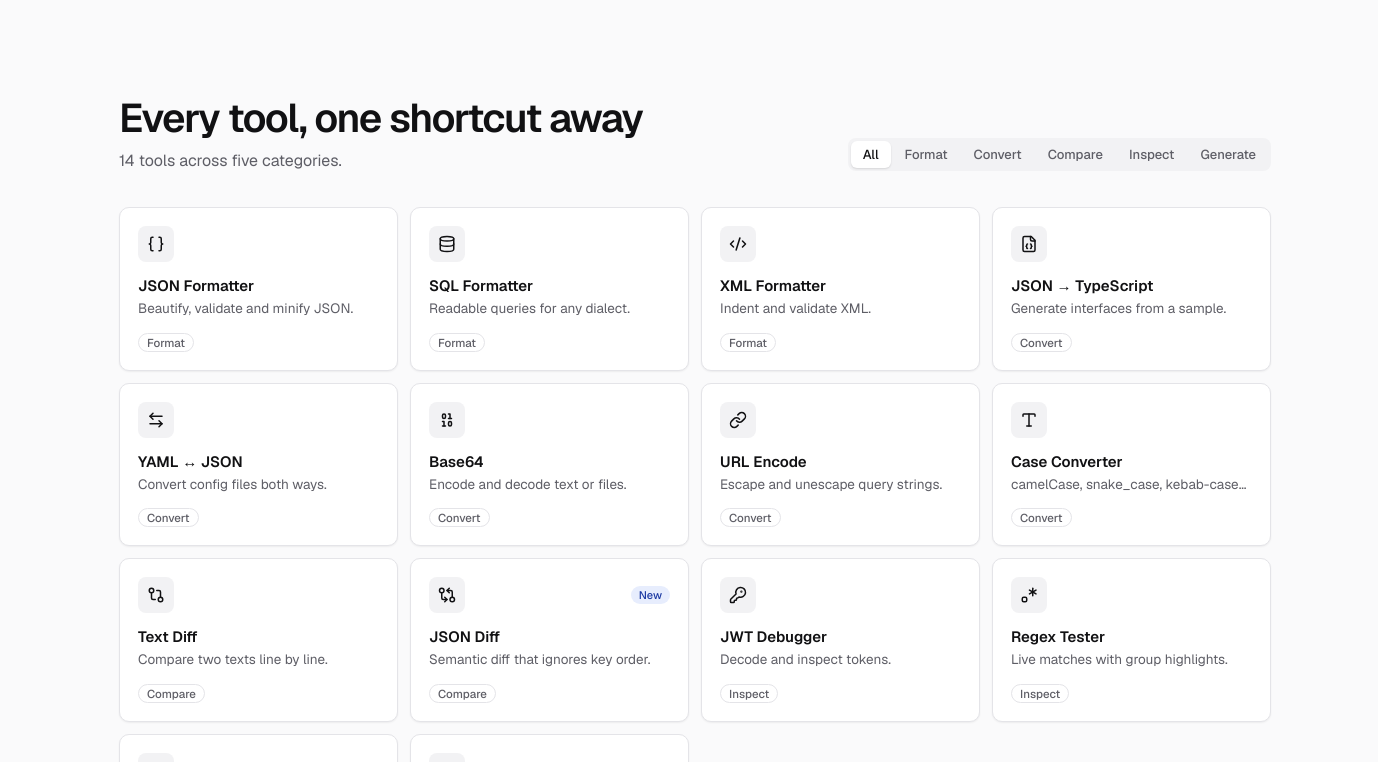
Test: ToolCatalog › filters by category
Click the radio button labelled "Compare" at (1075, 154), box [1036,141,1115,168]
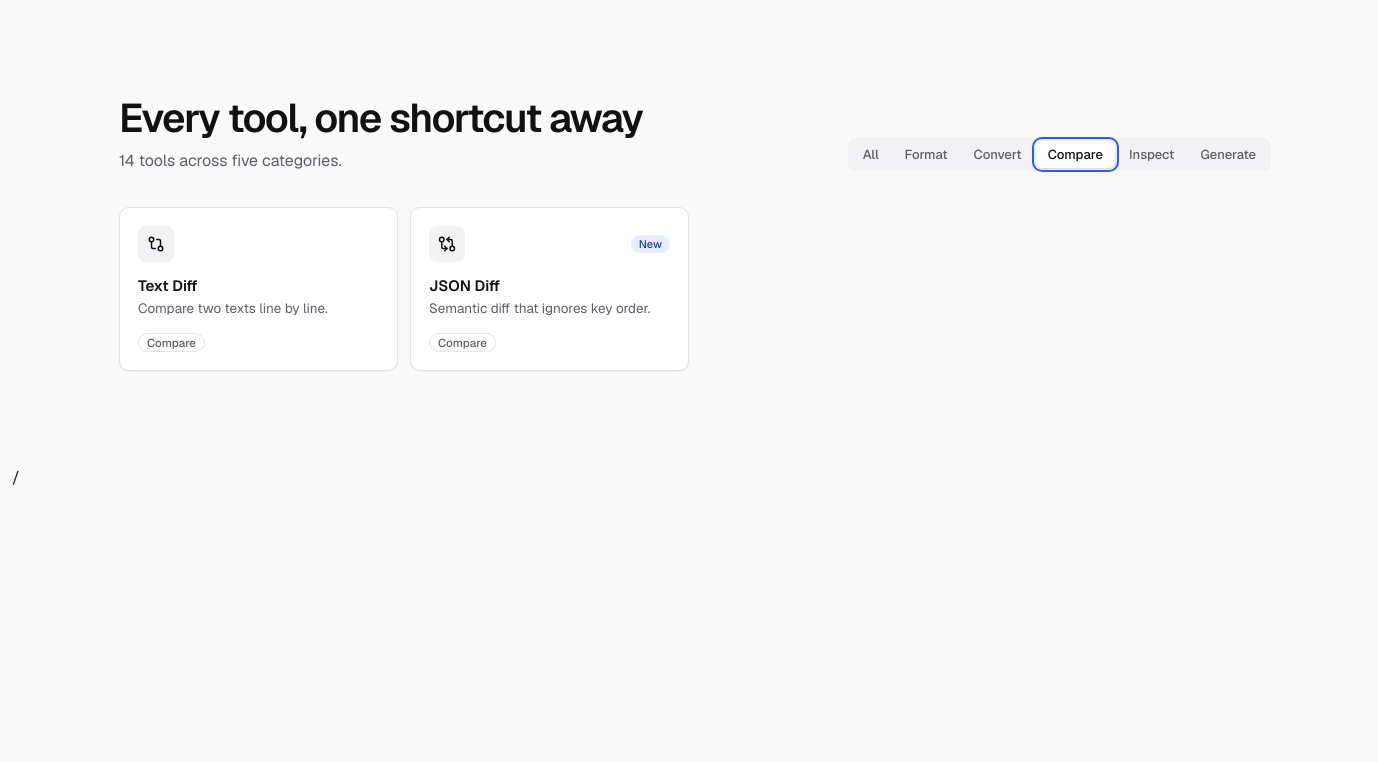
Click the radio button labelled "All" at (871, 154), box [851,141,891,168]
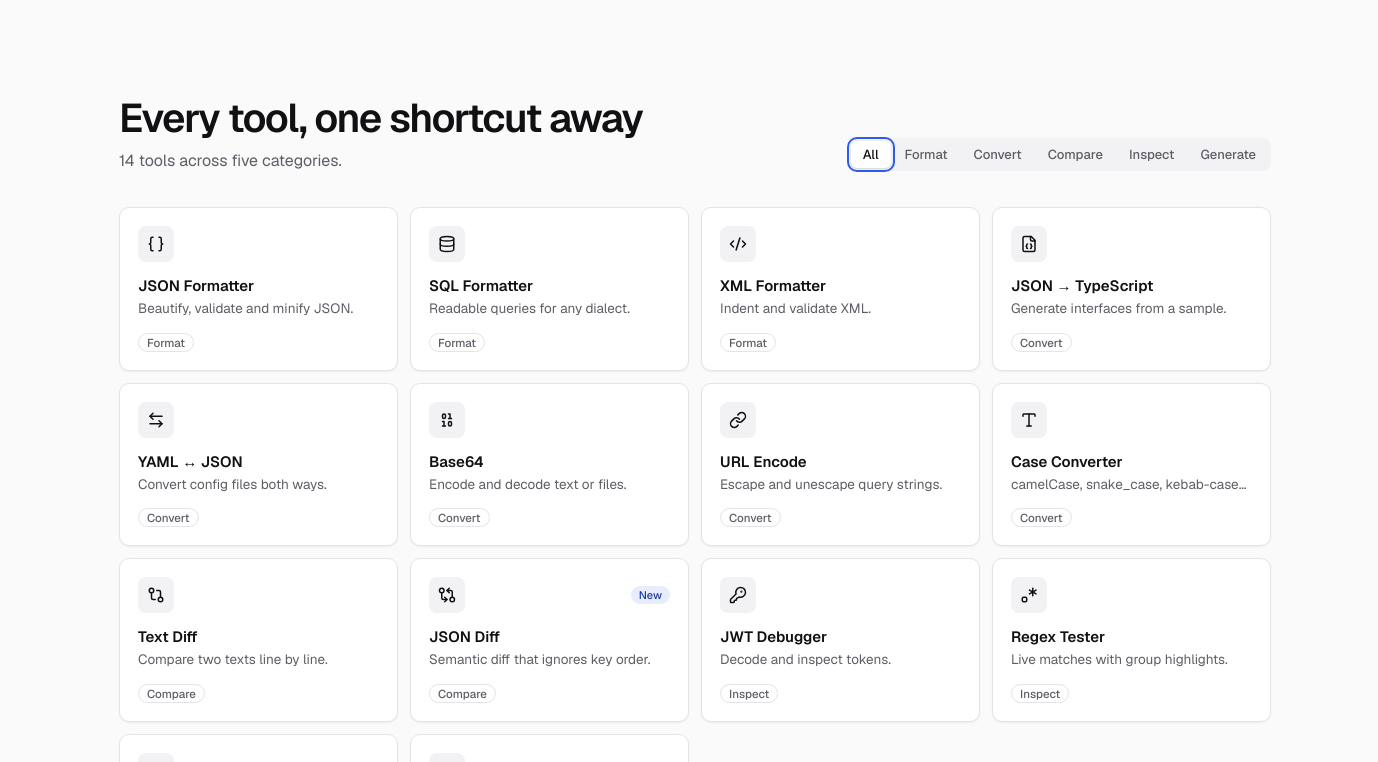
Expected: the number of links is 14
